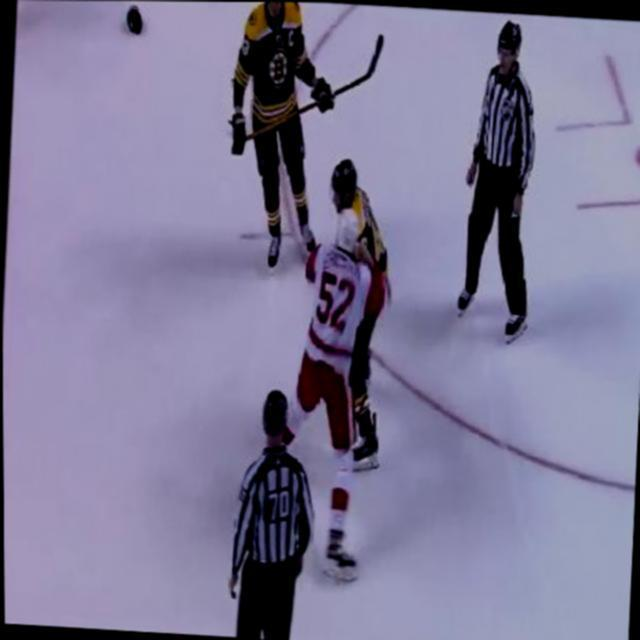fight: (286, 157, 400, 498)
non-fight: (466, 0, 584, 373), (176, 375, 326, 624), (207, 0, 327, 195)
